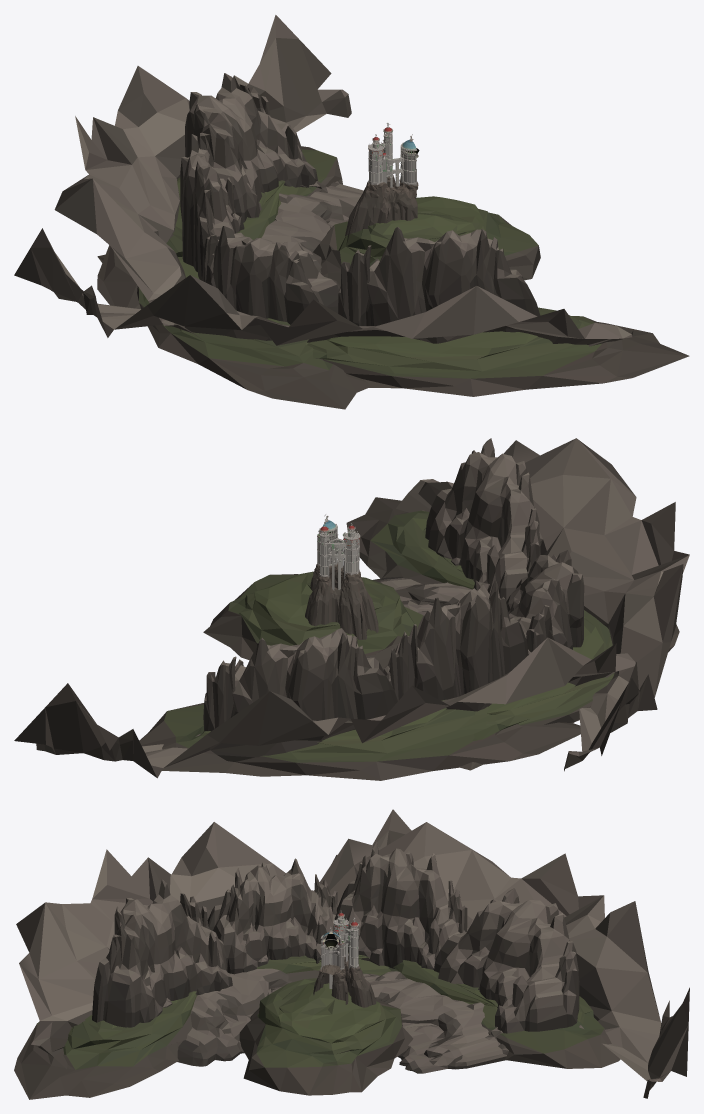
Rendered from narrowTemple.glb.
3 renders of one model, top to bottom at view 1: azimuth 30°, elevation 25°; view 2: azimuth 150°, elevation 25°; view 3: azimuth 270°, elevation 25°, orthographic. The views are drawn at different scales.
Parts seen in each view (by area): view 1: surroundings_Meshes_Mountain_.011, surroundings_Meshes_Mountain_.012, surroundings_Meshes_Mountain_.008, surroundings_Meshes_Mountain_.002, surroundings_Meshes_Mountain_.005, surroundings_Meshes_Mountain_.006, surroundings_Meshes_Mountain_.003, surroundings_Meshes_Mountain_, surroundings_Meshes_Mountain_.004, surroundings_Meshes_Mountain_.007, surroundings_Meshes_Mountain_.009, surroundings_Meshes_Mountain_.001; view 2: surroundings_Meshes_Mountain_.012, surroundings_Meshes_Mountain_.011, surroundings_Meshes_Mountain_.007, surroundings_Meshes_Mountain_.005, surroundings_Meshes_Mountain_.002, surroundings_Meshes_Mountain_.004, surroundings_Meshes_Mountain_, surroundings_Meshes_Mountain_.008, surroundings_Meshes_Mountain_.003, surroundings_Meshes_Mountain_.006, surroundings_Meshes_Mountain_.001, surroundings_Meshes_Mountain_.010; view 3: surroundings_Meshes_Mountain_.011, surroundings_Meshes_Mountain_.012, surroundings_Meshes_Mountain_, surroundings_Meshes_Mountain_.005, surroundings_Meshes_Mountain_.002, surroundings_Meshes_Mountain_.004, surroundings_Meshes_Mountain_.008, surroundings_Meshes_Mountain_.003, surroundings_Meshes_Mountain_.009, surroundings_Meshes_Mountain_.007, surroundings_Meshes_Mountain_.010, surroundings_Meshes_Mountain_.001 (+1 smaller).
Part boxes in pixels (left/top/right/bottom): surroundings_Meshes_Mountain_.011: left=54, top=15, right=351, bottom=339; surroundings_Meshes_Mountain_.012: left=14, top=228, right=633, bottom=346; surroundings_Meshes_Mountain_.008: left=307, top=307, right=689, bottom=396; surroundings_Meshes_Mountain_.002: left=338, top=227, right=540, bottom=332; surroundings_Meshes_Mountain_.005: left=185, top=73, right=317, bottom=222; surroundings_Meshes_Mountain_.006: left=97, top=254, right=370, bottom=409; surroundings_Meshes_Mountain_.003: left=202, top=225, right=340, bottom=324; surroundings_Meshes_Mountain_: left=313, top=196, right=540, bottom=285; surroundings_Meshes_Mountain_.004: left=180, top=134, right=244, bottom=280; surroundings_Meshes_Mountain_.007: left=97, top=146, right=342, bottom=308; surroundings_Meshes_Mountain_.009: left=261, top=181, right=363, bottom=273; surroundings_Meshes_Mountain_.001: left=345, top=175, right=418, bottom=238; surroundings_Meshes_Mountain_.012: left=396, top=438, right=689, bottom=771; surroundings_Meshes_Mountain_.011: left=14, top=637, right=635, bottom=778; surroundings_Meshes_Mountain_.007: left=139, top=699, right=580, bottom=780; surroundings_Meshes_Mountain_.005: left=203, top=628, right=397, bottom=731; surroundings_Meshes_Mountain_.002: left=425, top=438, right=540, bottom=601; surroundings_Meshes_Mountain_.004: left=383, top=580, right=528, bottom=700; surroundings_Meshes_Mountain_: left=203, top=571, right=423, bottom=668; surroundings_Meshes_Mountain_.008: left=346, top=497, right=474, bottom=589; surroundings_Meshes_Mountain_.003: left=506, top=550, right=584, bottom=654; surroundings_Meshes_Mountain_.006: left=457, top=610, right=679, bottom=770; surroundings_Meshes_Mountain_.001: left=305, top=562, right=378, bottom=639; surroundings_Meshes_Mountain_.010: left=373, top=577, right=472, bottom=615; surroundings_Meshes_Mountain_.011: left=311, top=822, right=689, bottom=1098; surroundings_Meshes_Mountain_.012: left=16, top=809, right=411, bottom=1068; surroundings_Meshes_Mountain_: left=239, top=978, right=413, bottom=1095; surroundings_Meshes_Mountain_.005: left=434, top=888, right=579, bottom=1033; surroundings_Meshes_Mountain_.002: left=92, top=879, right=232, bottom=1027; surroundings_Meshes_Mountain_.004: left=333, top=841, right=467, bottom=969; surroundings_Meshes_Mountain_.008: left=14, top=991, right=196, bottom=1099; surroundings_Meshes_Mountain_.003: left=207, top=858, right=337, bottom=974; surroundings_Meshes_Mountain_.009: left=363, top=971, right=508, bottom=1073; surroundings_Meshes_Mountain_.007: left=388, top=960, right=620, bottom=1068; surroundings_Meshes_Mountain_.010: left=177, top=968, right=308, bottom=1066; surroundings_Meshes_Mountain_.001: left=313, top=953, right=376, bottom=1007.
Size of what is drawn, in the model's own units: 809 by 237 by 1136.
